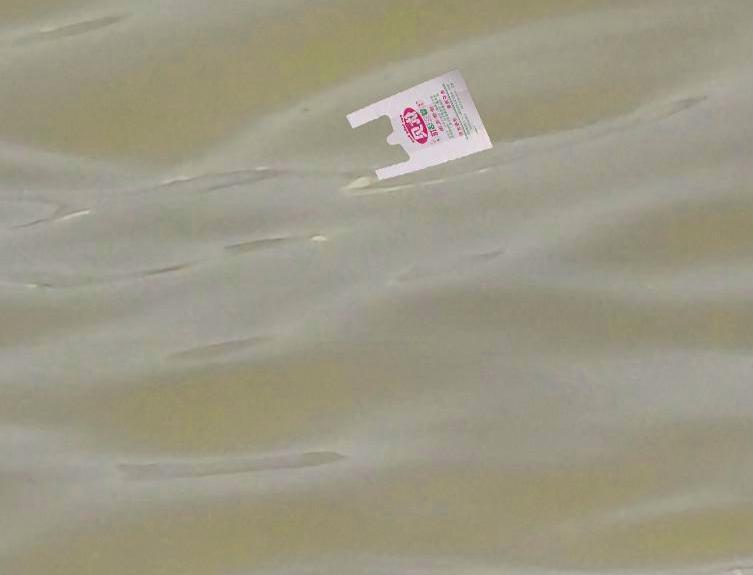Trash: (343, 64, 495, 182)
